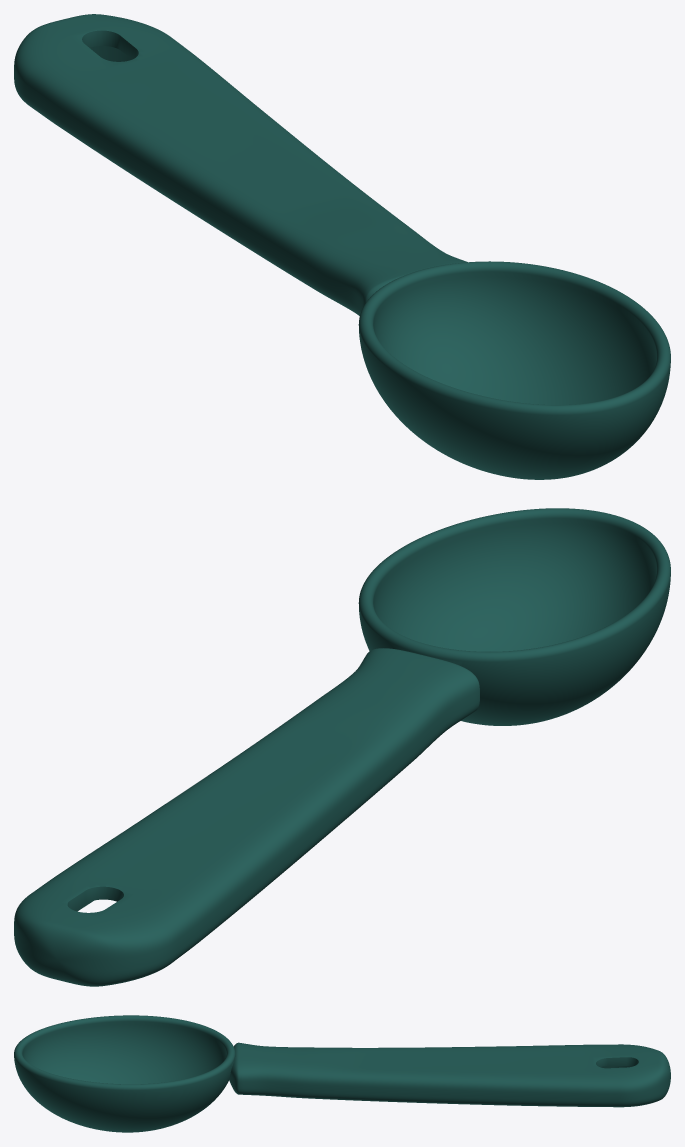
3 renders of one model, top to bottom at view 1: azimuth 30°, elevation 25°; view 2: azimuth 150°, elevation 25°; view 3: azimuth 270°, elevation 25°, orthographic. The views are drawn at different scales.
Parts seen in each view (by area): view 1: part_000_Scoop_and_handle; view 2: part_000_Scoop_and_handle; view 3: part_000_Scoop_and_handle.
Boxes of the visible parts, x1,y1,x2,y2 form: part_000_Scoop_and_handle: (14,14,670,479); part_000_Scoop_and_handle: (14,508,670,986); part_000_Scoop_and_handle: (14,1015,670,1132).
Bounding box in the file's own units: 0.0481 × 0.0227 × 0.184.
